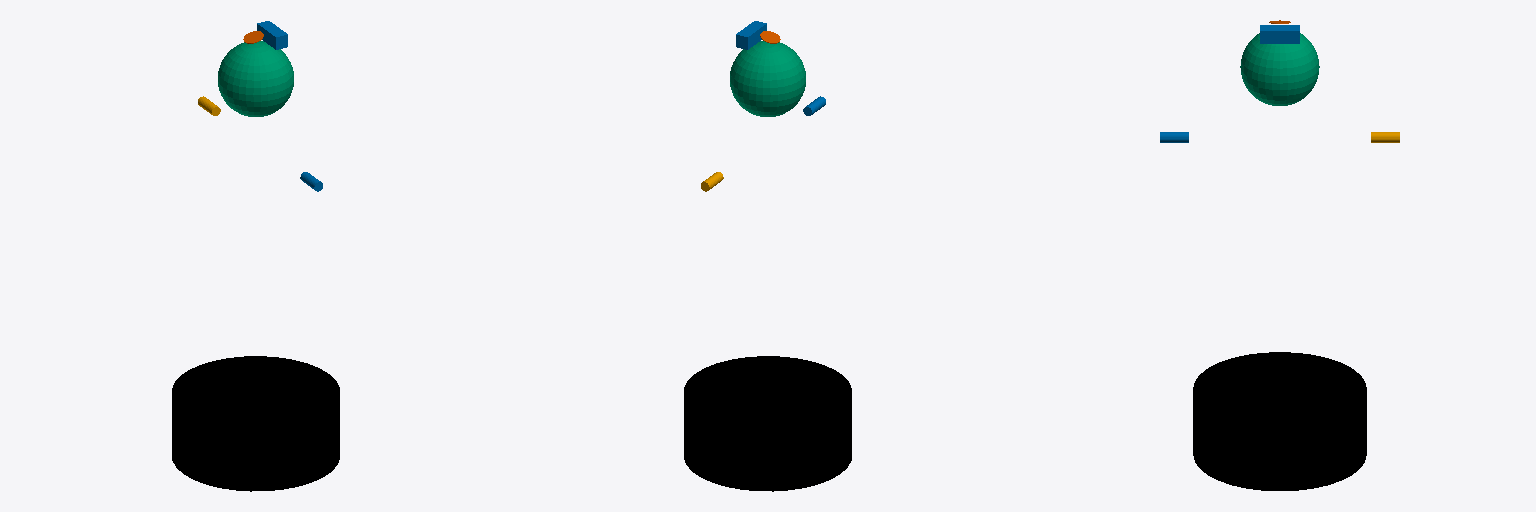
robot.urdf — quori:
<?xml version="1.0" ?>
<!-- =================================================================================== -->
<!-- |    This document was autogenerated by xacro from quori.xacro                    | -->
<!-- |    EDITING THIS FILE BY HAND IS NOT RECOMMENDED                                 | -->
<!-- =================================================================================== -->
<robot name="quori">
  <link name="quori/base_link">
    <inertial>
      <origin rpy="0 0 0" xyz="0 0 0.23"/>
      <mass value="2"/>
      <inertia ixx="0.052" ixy="0" ixz="0" iyy="0.052" iyz="0" izz="0.031"/>
    </inertial>
    <visual>
      <origin rpy="0 0 -1.57079632679" xyz="0.02 0 -0.2007174"/>
      <geometry>
        <mesh filename="file://[local-path]/quori_ws/src/quori_simulation/meshes/180915_Lower_Torso.dae"/>
      </geometry>
    </visual>
  </link>
  <link name="quori/body_upper">
    <inertial>
      <origin rpy="0 0 0" xyz="0 0 -0.01"/>
      <mass value="26.75"/>
      <inertia ixx="2.5" ixy="0" ixz="0" iyy="2.5" iyz="0" izz="0.134"/>
    </inertial>
    <visual>
      <origin rpy="0 0 -1.57079632679" xyz="0.02 0 -0.5476974"/>
      <geometry>
        <mesh filename="file://[local-path]/quori_ws/src/quori_simulation/meshes/0917_Upper_Torso+Waist.dae"/>
      </geometry>
    </visual>
  </link>
  <joint name="waist_pitch" type="revolute">
    <origin rpy="0 0 0" xyz="0 0 0.34798"/>
    <parent link="quori/base_link"/>
    <child link="quori/body_upper"/>
    <axis xyz="0 -1 0"/>
    <limit effort="1" lower="-0.47123889803846897" upper="0.2111848394913139" velocity="1"/>
  </joint>
  <link name="quori/r_shoulder">
    <inertial>
      <origin rpy="0 0 0" xyz="0 0 0"/>
      <mass value="0.0"/>
      <inertia ixx="0.0" ixy="0" ixz="0" iyy="0.0" iyz="0" izz="0.0"/>
    </inertial>
  </link>
  <joint name="r_shoulder_pitch" type="revolute">
    <origin rpy="0 0 0" xyz="0.015 -0.16403066 0.43021758"/>
    <parent link="quori/body_upper"/>
    <child link="quori/r_shoulder"/>
    <axis xyz="0 -1 0"/>
    <limit effort="1" lower="-2.4" upper="2.4" velocity="1"/>
  </joint>
  <link name="quori/r_arm_upper">
    <inertial>
      <origin rpy="0 0 0" xyz="0 0 0"/>
      <mass value="0.00"/>
      <inertia ixx="0.0" ixy="0" ixz="0" iyy="0.0" iyz="0" izz="0.0"/>
    </inertial>
    <visual>
      <origin rpy="-1.57079632679 0 0" xyz="0.165 -0.9765 -0.137"/>
      <geometry>
        <mesh filename="file://[local-path]/quori_ws/src/quori_simulation/meshes/0917_Upper_Arm+gear_right.dae"/>
      </geometry>
    </visual>
  </link>
  <joint name="r_shoulder_roll" type="revolute">
    <origin rpy="0 0 0" xyz="0 0 0"/>
    <parent link="quori/r_shoulder"/>
    <child link="quori/r_arm_upper"/>
    <axis xyz="-1 0 0"/>
    <limit effort="1" lower="-1.1" upper="1.1" velocity="1"/>
  </joint>
  <link name="quori/r_arm_upper2lower">
    <inertial>
      <origin rpy="0 0 0" xyz="0 0 0.3"/>
      <mass value="0.19"/>
      <inertia ixx="0.006" ixy="0" ixz="0" iyy="0.006" iyz="0" izz="0.0"/>
    </inertial>
    <visual>
      <origin rpy="-1.57079632679 0 0" xyz="0 -0.13 0"/>
      <geometry>
        <cylinder length="0.08" radius="0.015"/>
      </geometry>
      <material name="white"/>
    </visual>
  </link>
  <joint name="r_arm_upper2lower_j" type="fixed">
    <parent link="quori/r_arm_upper"/>
    <child link="quori/r_arm_upper2lower"/>
  </joint>
  <link name="quori/r_arm_lower">
    <inertial>
      <origin rpy="0 0 0" xyz="0 0 0"/>
      <mass value="0.00"/>
      <inertia ixx="0.0" ixy="0" ixz="0" iyy="0.0" iyz="0" izz="0.0"/>
    </inertial>
    <visual>
      <origin rpy="1.570759635 1.570759635 0" xyz="0 0 0"/>
      <geometry>
        <mesh filename="file://[local-path]/quori_ws/src/quori_simulation/meshes/0917_Lower_Arm_right.dae"/>
      </geometry>
    </visual>
  </link>
  <joint name="r_elbow_pitch" type="fixed">
    <origin rpy="0 0 0" xyz="0 -0.15 0"/>
    <parent link="quori/r_arm_upper"/>
    <child link="quori/r_arm_lower"/>
  </joint>
  <link name="quori/l_shoulder">
    <inertial>
      <origin rpy="0 0 0" xyz="0 0 0"/>
      <mass value="0.0"/>
      <inertia ixx="0.0" ixy="0" ixz="0" iyy="0.0" iyz="0" izz="0.0"/>
    </inertial>
  </link>
  <joint name="l_shoulder_pitch" type="revolute">
    <origin rpy="0 0 0" xyz="0.015 0.16403066 0.43021758"/>
    <parent link="quori/body_upper"/>
    <child link="quori/l_shoulder"/>
    <axis xyz="0 -1 0"/>
    <limit effort="1" lower="-2.4" upper="2.4" velocity="1"/>
  </joint>
  <link name="quori/l_arm_upper">
    <inertial>
      <origin rpy="0 0 0" xyz="0 0 0"/>
      <mass value="0.00"/>
      <inertia ixx="0.0" ixy="0" ixz="0" iyy="0.0" iyz="0" izz="0.0"/>
    </inertial>
    <visual>
      <origin rpy="-1.57079632679 0 -3.14" xyz="0.165 0.9765 -0.137"/>
      <geometry>
        <mesh filename="file://[local-path]/quori_ws/src/quori_simulation/meshes/0917_Upper_Arm+gear_left.dae"/>
      </geometry>
    </visual>
  </link>
  <joint name="l_shoulder_roll" type="revolute">
    <origin rpy="0 0 0" xyz="0 0 0"/>
    <parent link="quori/l_shoulder"/>
    <child link="quori/l_arm_upper"/>
    <axis xyz="1 0 0"/>
    <limit effort="1" lower="-1.1" upper="1.1" velocity="1"/>
  </joint>
  <link name="quori/l_arm_upper2lower">
    <inertial>
      <origin rpy="0 0 0" xyz="0 0 0.3"/>
      <mass value="0.19"/>
      <inertia ixx="0.006" ixy="0" ixz="0" iyy="0.006" iyz="0" izz="0.0"/>
    </inertial>
    <visual>
      <origin rpy="-1.57079632679 0 0" xyz="0 0.13 0"/>
      <geometry>
        <cylinder length="0.08" radius="0.015"/>
      </geometry>
      <material name="white"/>
    </visual>
  </link>
  <joint name="l_arm_upper2lower_j" type="fixed">
    <parent link="quori/l_arm_upper"/>
    <child link="quori/l_arm_upper2lower"/>
  </joint>
  <link name="quori/l_arm_lower">
    <inertial>
      <origin rpy="0 0 0" xyz="0 0 0"/>
      <mass value="0.00"/>
      <inertia ixx="0.0" ixy="0" ixz="0" iyy="0.0" iyz="0" izz="0.0"/>
    </inertial>
    <visual>
      <origin rpy="-1.570759635 -1.570759635 0" xyz="0 0 0"/>
      <geometry>
        <mesh filename="file://[local-path]/quori_ws/src/quori_simulation/meshes/0917_Lower_Arm_left.dae"/>
      </geometry>
    </visual>
  </link>
  <joint name="l_elbow_pitch" type="fixed">
    <origin rpy="0 0 0" xyz="0 0.15 0"/>
    <parent link="quori/l_arm_upper"/>
    <child link="quori/l_arm_lower"/>
  </joint>
  <link name="quori/head">
    <inertial>
      <origin rpy="0 0 0" xyz="0 0 0"/>
      <mass value="1.9"/>
      <inertia ixx="0.008" ixy="0" ixz="0" iyy="0.0056" iyz="0" izz="0.0056"/>
    </inertial>
    <visual>
      <origin xyz="0 0 0.085"/>
      <geometry>
        <sphere radius="0.11"/>
      </geometry>
      <material name="white"/>
    </visual>
    <visual>
      <origin rpy="0 0 -1.57079632679" xyz="0.01 0 -1.11"/>
      <geometry>
        <mesh filename="file://[local-path]/quori_ws/src/quori_simulation/meshes/0917_Helmet_Duripod.dae"/>
      </geometry>
    </visual>
  </link>
  <joint name="neck" type="fixed">
    <origin rpy="0 0 0" xyz="0 0 0.554"/>
    <parent link="quori/body_upper"/>
    <child link="quori/head"/>
  </joint>
  <joint name="head_camera_optical_joint" type="fixed">
    <origin rpy="-1.57079632679 0 -1.57079632679" xyz="0 0 0"/>
    <parent link="quori/head_camera"/>
    <child link="quori/head_camera_optical"/>
  </joint>
  <link name="quori/head_camera_optical">
  </link>
  <link name="quori/head_camera">
    <inertial>
      <origin rpy="0 0 0" xyz="0 0 0"/>
      <mass value="0.3"/>
      <inertia ixx="0.0004" ixy="0" ixz="0" iyy="0.0001" iyz="0" izz="0.0004"/>
    </inertial>
    <visual>
      <geometry>
        <box size="0.04 0.11 0.04"/>
      </geometry>
      <origin rpy="0 0 0" xyz="0 0 -0"/>
      <material name="black"/>
    </visual>
  </link>
  <joint name="camera_pitch" type="fixed">
    <origin rpy="0 0 0" xyz="0.055 0 0.21"/>
    <parent link="quori/head"/>
    <child link="quori/head_camera"/>
  </joint>
  <link name="quori/head_mic">
    <inertial>
      <origin rpy="0 0 0" xyz="0 0 0"/>
      <mass value="0.05"/>
      <inertia ixx="0.0" ixy="0" ixz="0" iyy="0.0" iyz="0" izz="0.0"/>
    </inertial>
    <visual>
      <geometry>
        <cylinder length="0.002" radius="0.03"/>
      </geometry>
      <origin rpy="0 0 0" xyz="0 0 -0"/>
      <material name="blue"/>
    </visual>
  </link>
  <joint name="mic_array" type="fixed">
    <origin rpy="0 -.3 0" xyz="-0.008 0 0.218"/>
    <parent link="quori/head"/>
    <child link="quori/head_mic"/>
  </joint>
  <material name="ramsis/base_link_material">
    <color rgba="0 0 0 1"/>
  </material>
  <material name="ramsis/laser_scanner_material">
    <color rgba="0.3 0.3 0.3 1"/>
  </material>
  <link name="ramsis/base_link_diff">
    <inertial>
      <origin rpy="0 0 0" xyz="0 0 0.1013587"/>
      <mass value="9.8"/>
      <inertia ixx="0.176" ixy="0" ixz="0" iyy="0.176" iyz="0" izz="0.285"/>
    </inertial>
    <visual>
      <origin rpy="0 0 0" xyz="0 0 0.1013587"/>
      <geometry>
        <cylinder length="0.2027174" radius="0.2413"/>
      </geometry>
      <material name="ramsis/base_link_material"/>
    </visual>
  </link>
  <link name="ramsis/base_laser_scanner">
    <inertial>
      <mass value="0.17"/>
      <inertia ixx="0.0001" ixy="0" ixz="0" iyy="0.0001" iyz="0" izz="0.0001"/>
    </inertial>
    <visual>
      <geometry>
        <cylinder length="0.025" radius="0.05"/>
      </geometry>
      <origin rpy="0 0 0" xyz="0 0 -0"/>
      <material name="ramsis/laser_scanner_material"/>
    </visual>
  </link>
  <joint name="laser_scanner_joint" type="fixed">
    <origin rpy="0 0.0 -1.5707" xyz="0.152 0 0.156"/>
    <parent link="ramsis/base_link_diff"/>
    <child link="ramsis/base_laser_scanner"/>
  </joint>
  <link name="ramsis/turret_link">
  </link>
  <link name="ramsis/base_link">
  </link>
  <link name="ramsis/l_wheel_link">
    <inertial>
      <origin rpy="0 0 0" xyz="0 0 0"/>
      <mass value="0.0"/>
      <inertia ixx="0.0" ixy="0" ixz="0" iyy="0.0" iyz="0" izz="0.0"/>
    </inertial>
  </link>
  <link name="ramsis/r_wheel_link">
    <inertial>
      <origin rpy="0 0 0" xyz="0 0 0"/>
      <mass value="0.0"/>
      <inertia ixx="0.0" ixy="0" ixz="0" iyy="0.0" iyz="0" izz="0.0"/>
    </inertial>
  </link>
  <joint name="ramsis/wheel_axle_joint" type="fixed">
    <origin xyz="0.1 0 -0.075"/>
    <parent link="ramsis/wheel_axle"/>
    <child link="ramsis/base_link_diff"/>
  </joint>
  <joint name="turret2base" type="fixed">
    <origin xyz="0 0 -0.2027174"/>
    <parent link="ramsis/turret_link"/>
    <child link="ramsis/base_link"/>
  </joint>
  <link name="ramsis/wheel_axle">
  </link>
  <joint name="l_wheel" type="continuous">
    <origin rpy="0 0 0" xyz="0 0.12284075 0"/>
    <parent link="ramsis/wheel_axle"/>
    <child link="ramsis/l_wheel_link"/>
    <axis xyz="0 1 0"/>
    <limit effort="1" velocity="0.5"/>
  </joint>
  <joint name="r_wheel" type="continuous">
    <origin rpy="0 0 0" xyz="0 -0.12284075 0"/>
    <parent link="ramsis/wheel_axle"/>
    <child link="ramsis/r_wheel_link"/>
    <axis xyz="0 1 0"/>
    <limit effort="1" velocity="0.5"/>
  </joint>
  <joint name="turret" type="continuous">
    <origin rpy="0 0 0" xyz="0 0 0.2027174"/>
    <parent link="ramsis/base_link_diff"/>
    <child link="ramsis/turret_link"/>
    <axis xyz="0 0 1"/>
    <limit effort="1" velocity="3"/>
  </joint>
  <quori_kinematics/>
  <ramsis_kinematics/>
  <!-- Join the quori robot to the ramsis robot's turret joint -->
  <joint name="ramsis_quori_connector" type="fixed">
    <parent link="ramsis/turret_link"/>
    <child link="quori/base_link"/>
  </joint>
</robot>

--- Facts derived from the render (not from the file) ---
Views: 3 orthographic renders of the robot side by side, from view 1: azimuth 30°, elevation 25°; view 2: azimuth 150°, elevation 25°; view 3: azimuth 270°, elevation 25°.
Model quori with 21 links and 20 joints (5 revolute, 3 continuous, 12 fixed), rooted at ramsis/wheel_axle, posed all joints at 0.
Links seen in each view (by area): view 1: ramsis/base_link_diff, quori/head, quori/head_camera; view 2: ramsis/base_link_diff, quori/head, quori/head_camera; view 3: ramsis/base_link_diff, quori/head, quori/head_camera.
Link boxes in pixels (x1=…): ramsis/base_link_diff: x1=172, y1=356, x2=339, y2=491; quori/head: x1=218, y1=41, x2=293, y2=116; quori/head_camera: x1=257, y1=21, x2=287, y2=49; ramsis/base_link_diff: x1=684, y1=356, x2=851, y2=491; quori/head: x1=730, y1=41, x2=805, y2=116; quori/head_camera: x1=736, y1=21, x2=766, y2=49; ramsis/base_link_diff: x1=1193, y1=352, x2=1366, y2=490; quori/head: x1=1240, y1=33, x2=1319, y2=105; quori/head_camera: x1=1260, y1=25, x2=1299, y2=43.
Size in the robot's own frame: 0.4826 by 0.6681 by 1.33 metres.
Geometry: only primitive shapes (box / cylinder / sphere) drawn; not drawn: 7 mesh visuals (reference in a form the renderer does not follow).